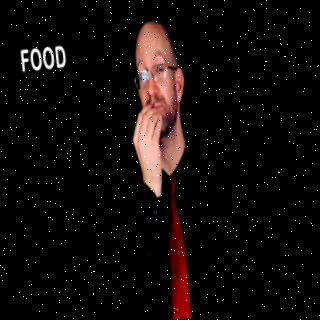Food: (104, 11, 221, 320)
